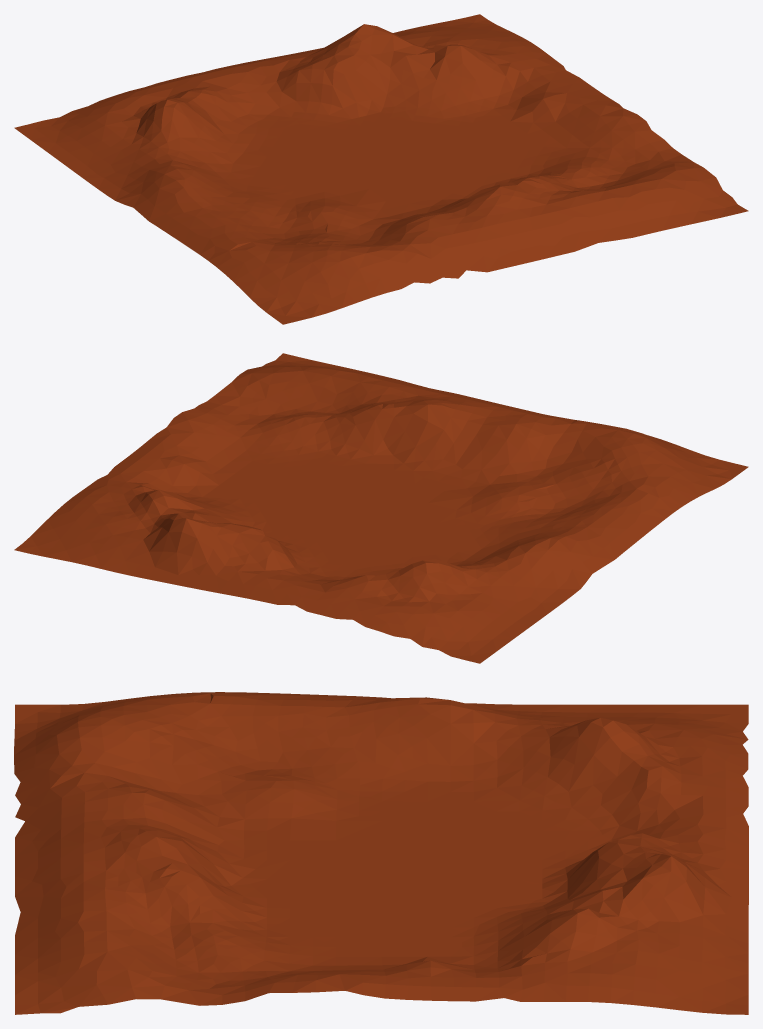
The model's file is LPSciFi_PlanetLandscapeSmall.fbx.
3 renders of one model, top to bottom at view 1: azimuth 30°, elevation 25°; view 2: azimuth 150°, elevation 25°; view 3: azimuth 270°, elevation 25°, orthographic. The views are drawn at different scales.
Visible parts, largest first — view 1: PlanetLandscapeSmall; view 2: PlanetLandscapeSmall; view 3: PlanetLandscapeSmall.
Part boxes in pixels (bbox=[...]): PlanetLandscapeSmall: bbox=[14, 14, 748, 324]; PlanetLandscapeSmall: bbox=[14, 353, 748, 663]; PlanetLandscapeSmall: bbox=[14, 692, 748, 1014].
Bounding box in the file's own units: 40147 × 3775 × 40068.
